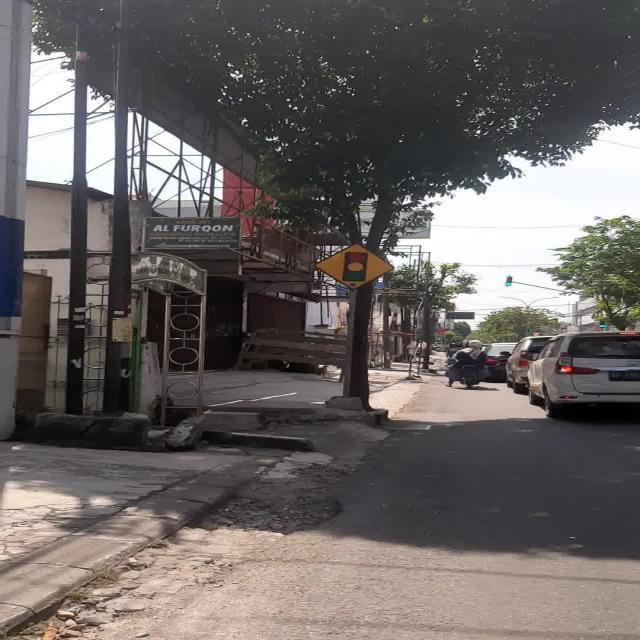Lampu Lalu Lintas: (315, 243, 395, 290)
